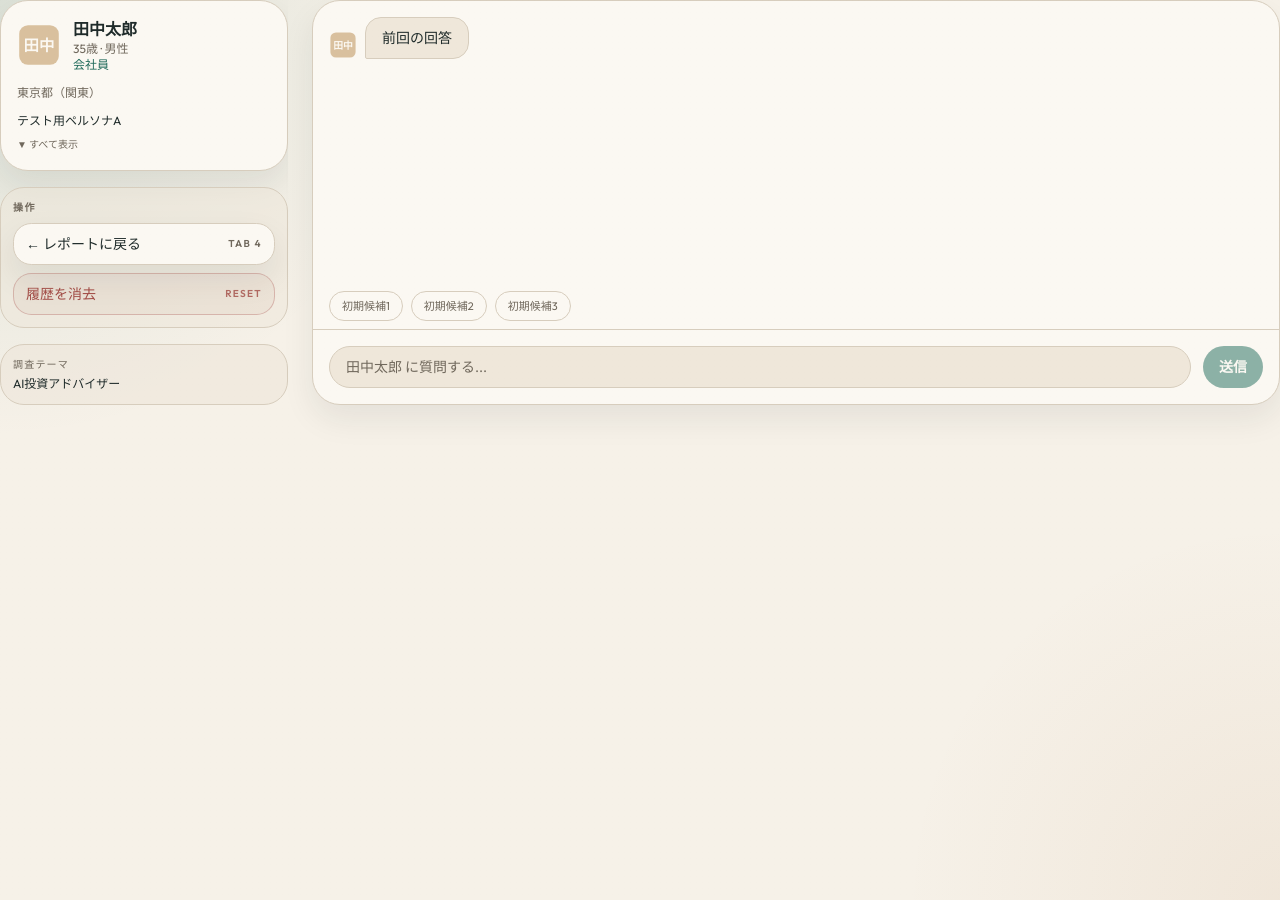
Test: FollowUpChat › refreshes suggestions after a completed answer
Click the button "初期候補1" at (366, 306), box [329,290,403,321]
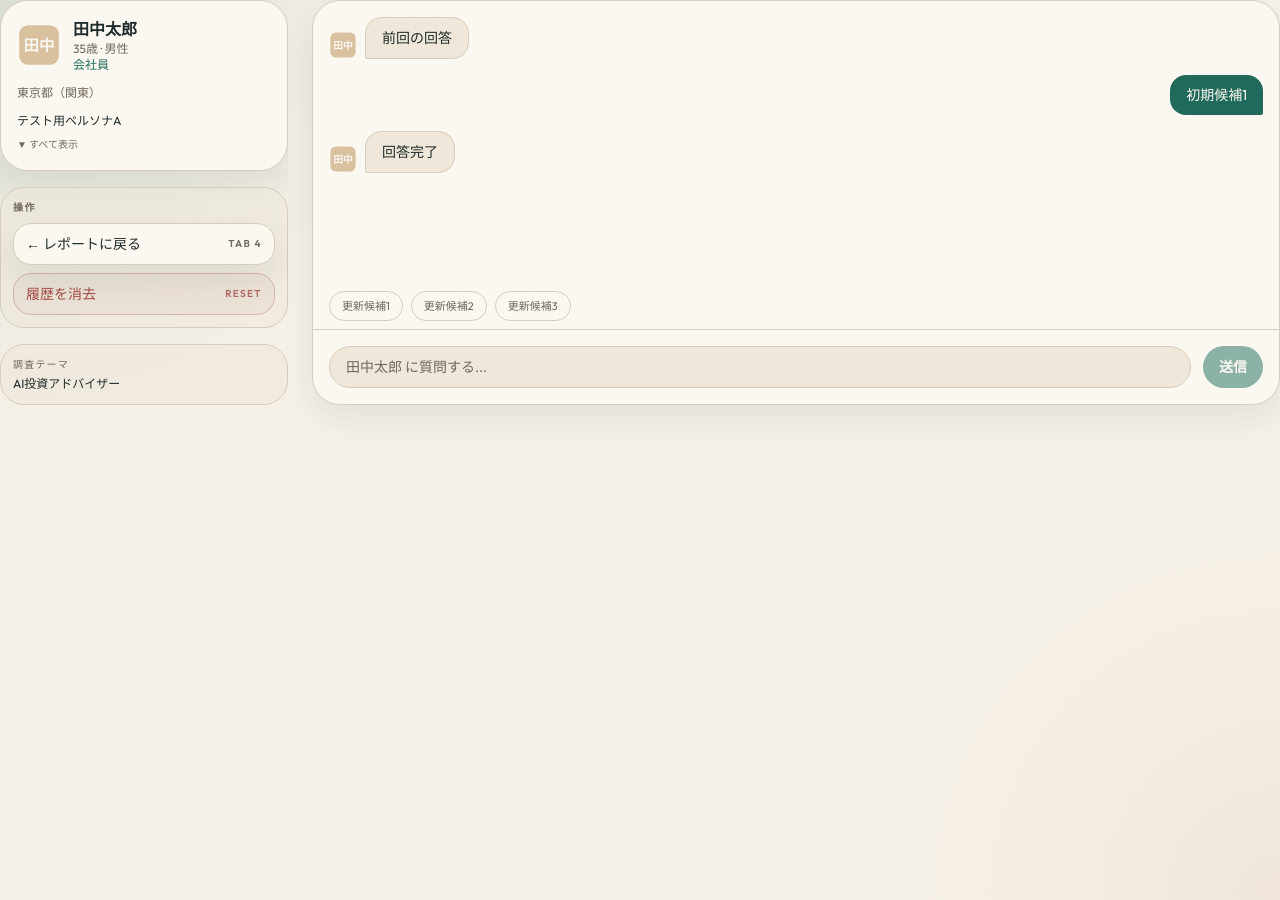
Check: the button "更新候補1" is shown, box [329,290,403,321]
